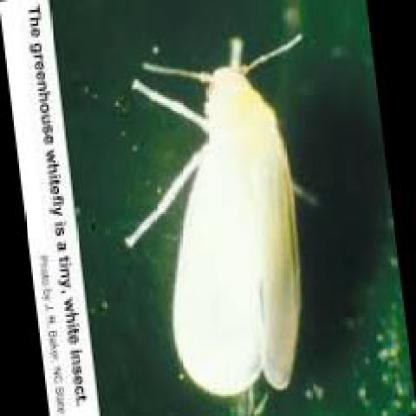whitefly: (175, 66, 304, 396)
